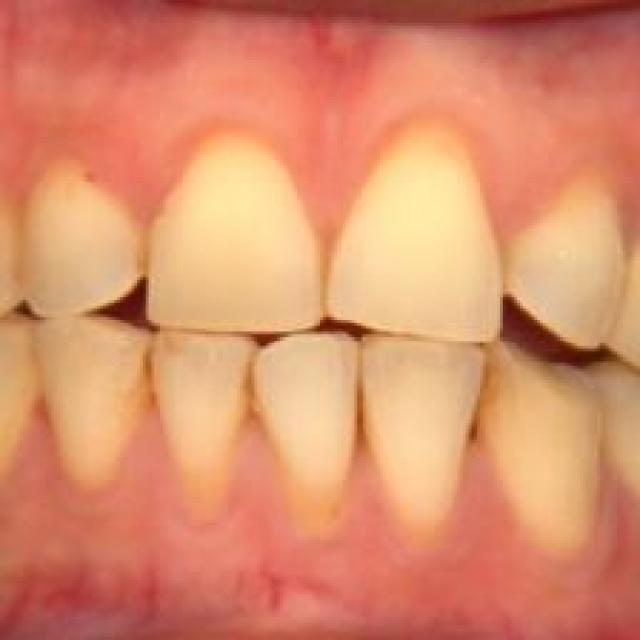cavity: (469, 354, 497, 443), (128, 348, 166, 412), (232, 360, 268, 426), (343, 371, 371, 443), (129, 223, 157, 280)
